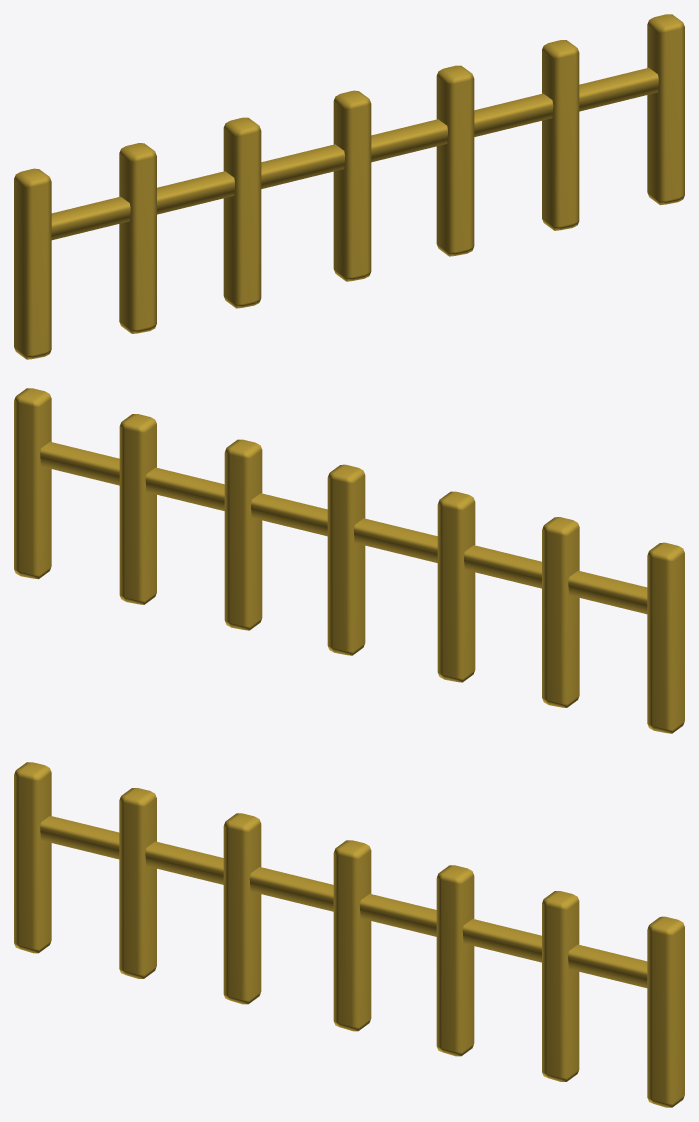
File: Fence.fbx
The picture shows the model from 3 angles, top to bottom: view 1: azimuth 30°, elevation 25°; view 2: azimuth 150°, elevation 25°; view 3: azimuth 330°, elevation 25°; orthographic projection.
Visible parts, largest first — view 1: Fence; view 2: Fence; view 3: Fence.
Boxes of the visible parts, x1,y1,x2,y2 form: Fence: (14, 14, 684, 359); Fence: (14, 388, 684, 733); Fence: (14, 762, 684, 1107).
Size of the model in its own units: 1.66 by 0.4314 by 0.0612.
